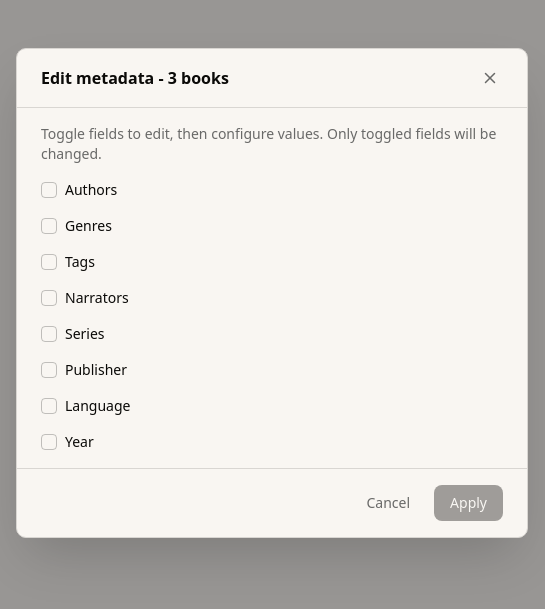
Scenario: BulkEditMetadataDialog › field toggling › enables Year input when Year toggle is clicked
Click the button "Year". click: (49, 442)
box: 41,432 -> 503,452
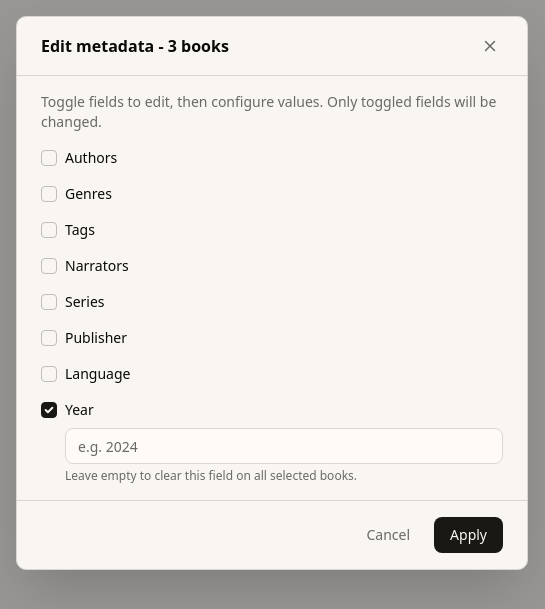
expect the field with placeholder "e.g. 2024" is shown: met, box 65,428 -> 503,464
